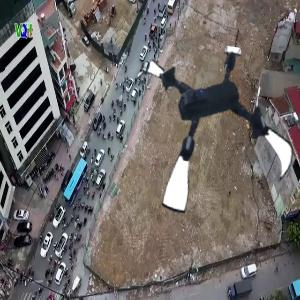drone: (125, 45, 300, 220)
